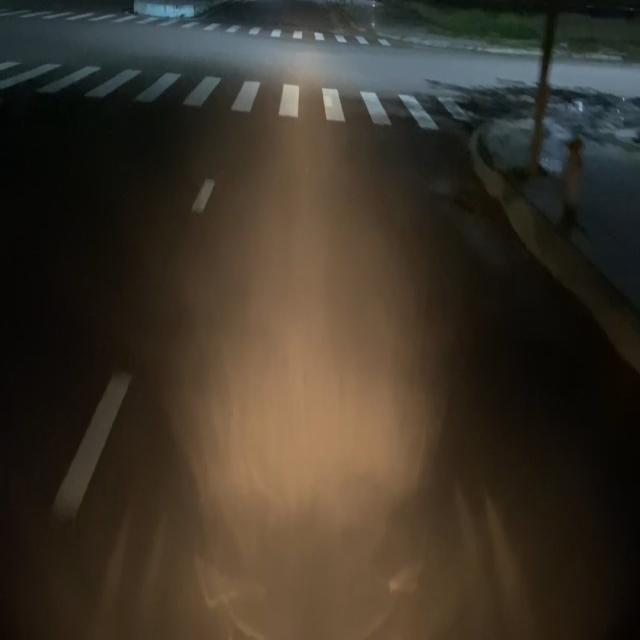walk-crossing: (2, 56, 482, 132)
